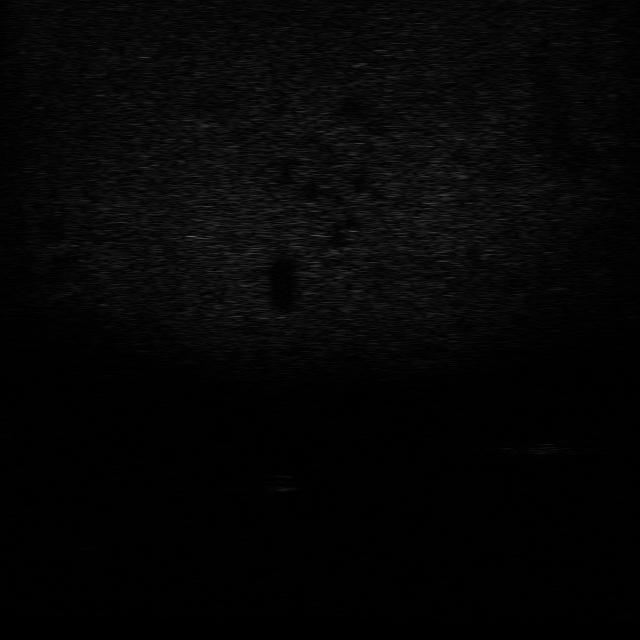ball: (258, 471, 304, 494)
human body: (491, 428, 589, 461)
